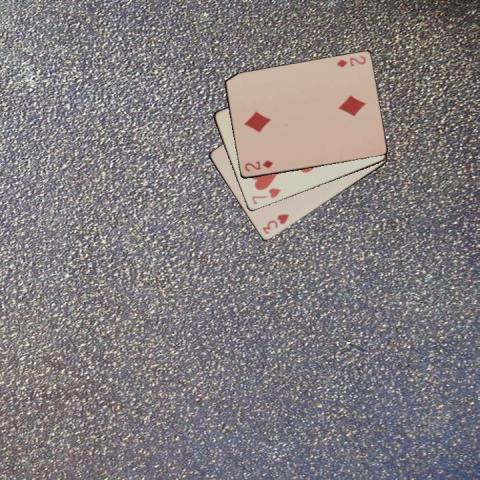2d: (333, 52, 367, 68), (241, 157, 274, 173)
3h: (259, 211, 290, 236)
7h: (249, 185, 282, 206)
